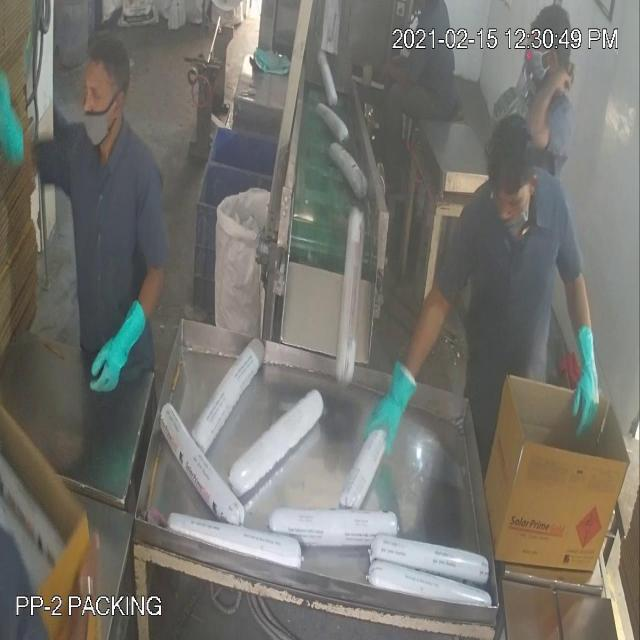Gloves: (26, 48, 588, 404)
